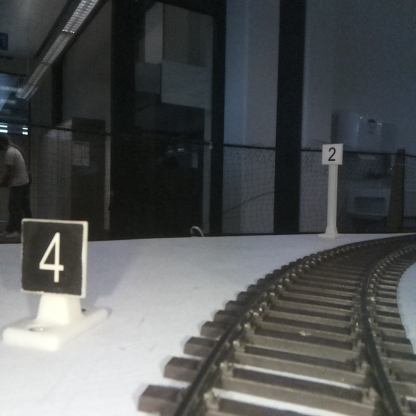black-stop-4: (21, 223, 84, 343)
white-info-2: (322, 142, 342, 236)
